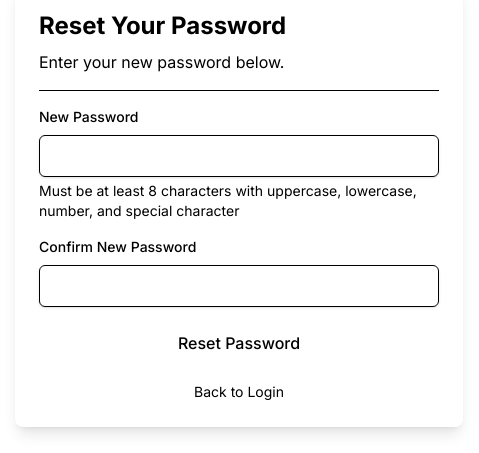
Test: ResetPasswordPage › shows validation error for password missing uppercase
This screenshot has width=479, height=453.
expect the button "Reset Password" is shown: met, box [39,322,439,362]
In the password field labelled "New Password": (239, 156) [39,134,439,176], type "lowercase123!"
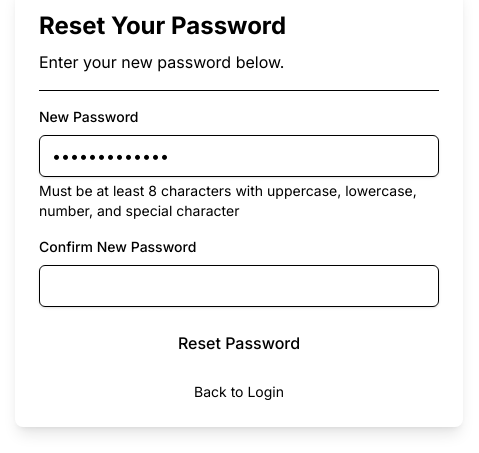
In the password field labelled "Confirm New Password": (239, 286) [39,264,439,306], type "lowercase123!"
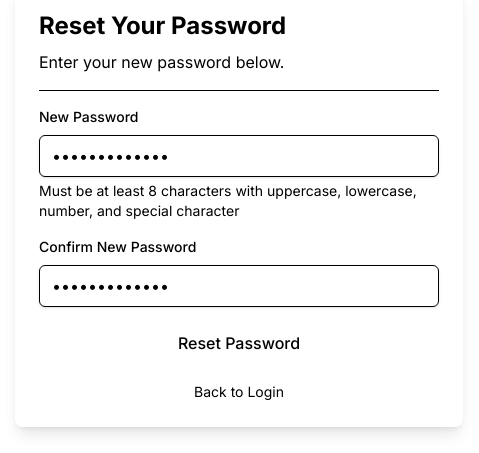
Click the button "Reset Password": (239, 342) [39,322,439,362]
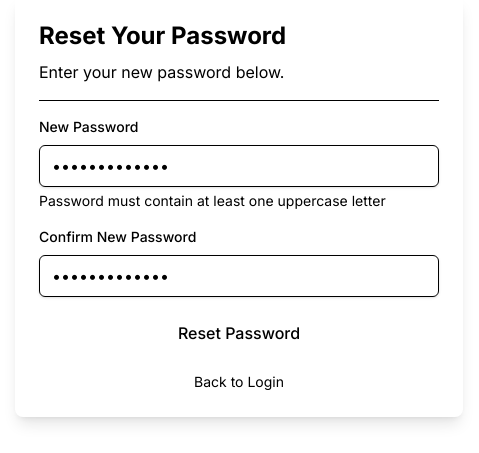
expect the text "Password must contain at least one uppercase letter" is shown: met, box [39,190,439,210]
